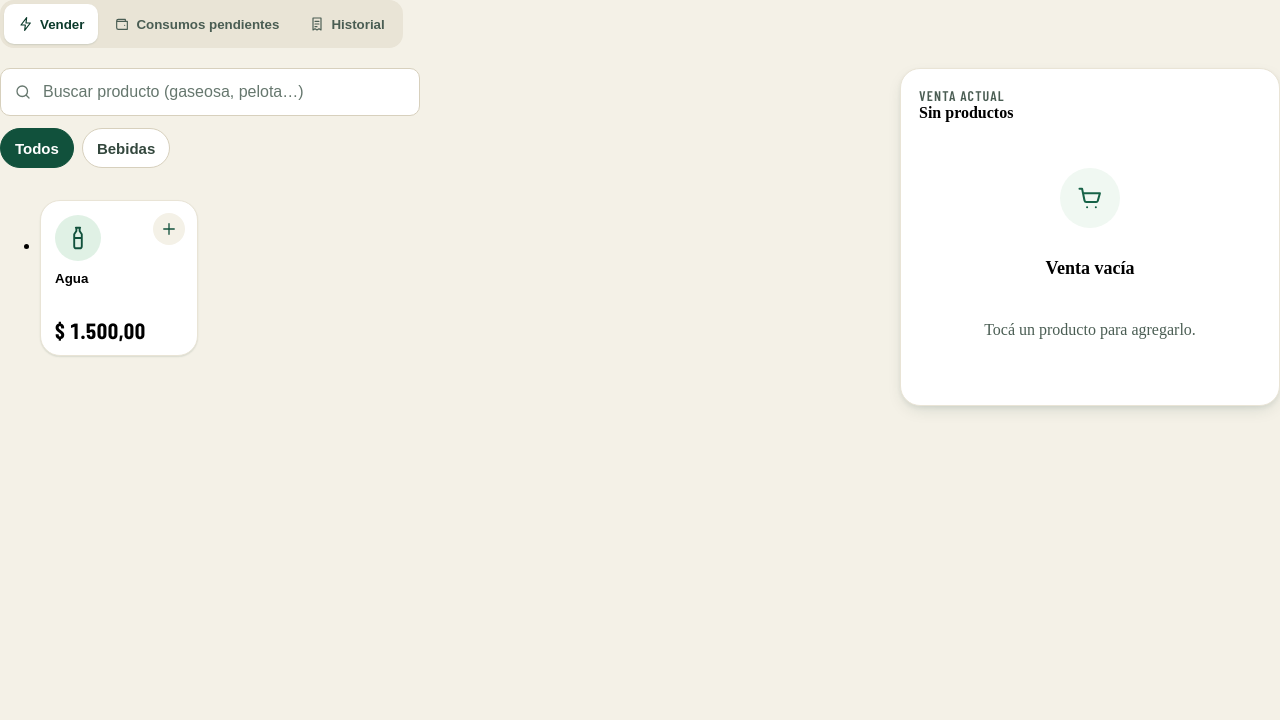
Test: CanteenPanel · venta idempotente (SEC-05) › venta normal: envía productos, medio de pago y una clave de operación; vacía el carrito al confirmar
Click the button "Agua $ 1.500,00": [119, 278] box [40, 200, 198, 356]
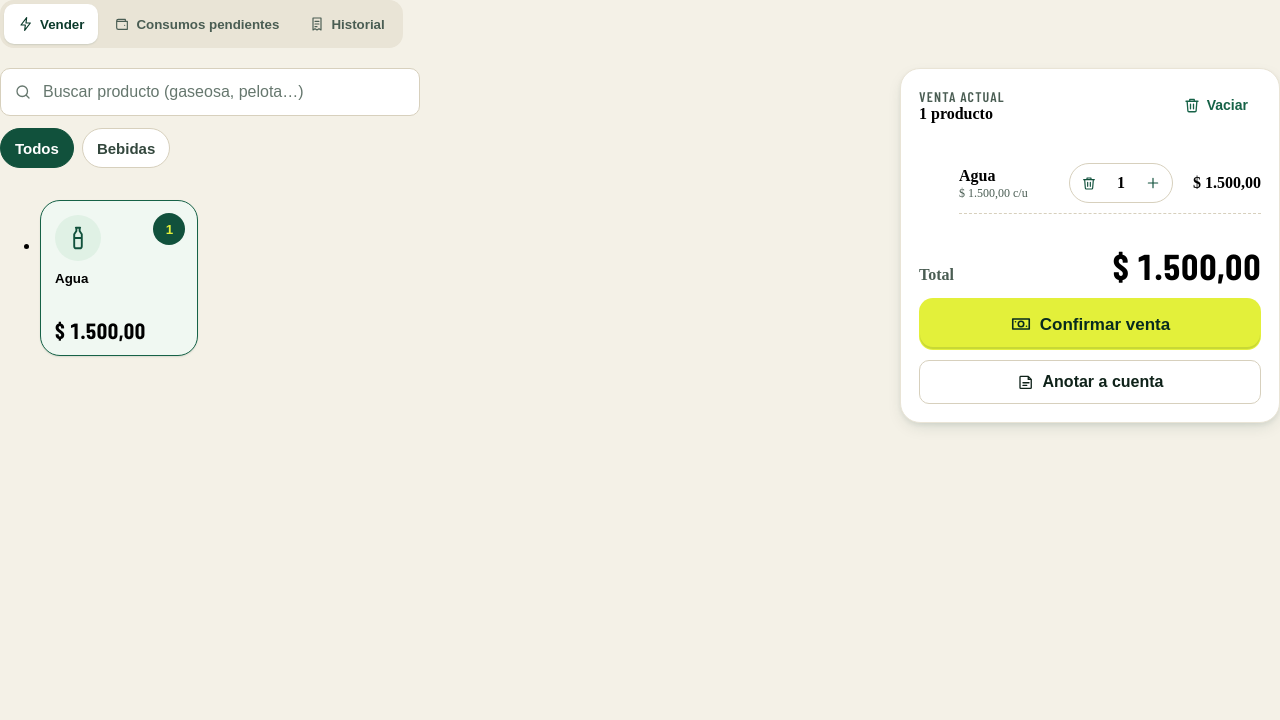
Click the button "Confirmar venta": [1090, 324] box [919, 298, 1261, 350]
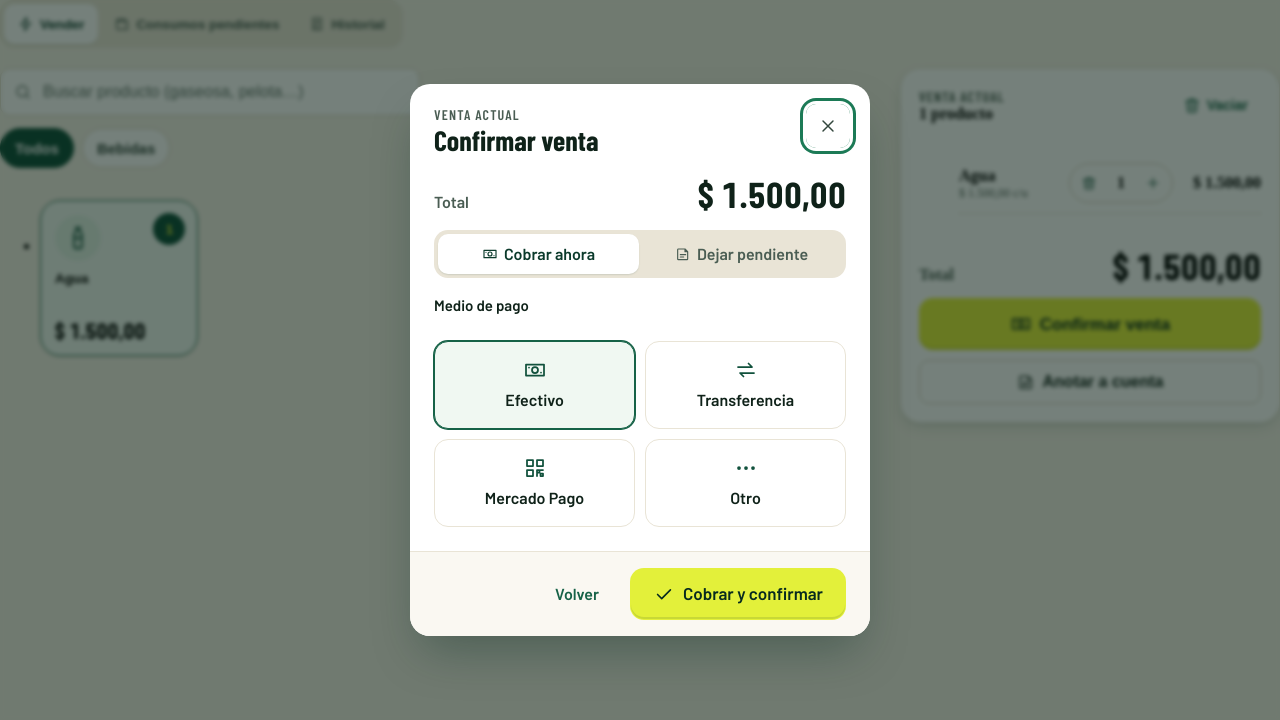
Click the button "Cobrar y confirmar": [738, 594] box [630, 568, 846, 620]
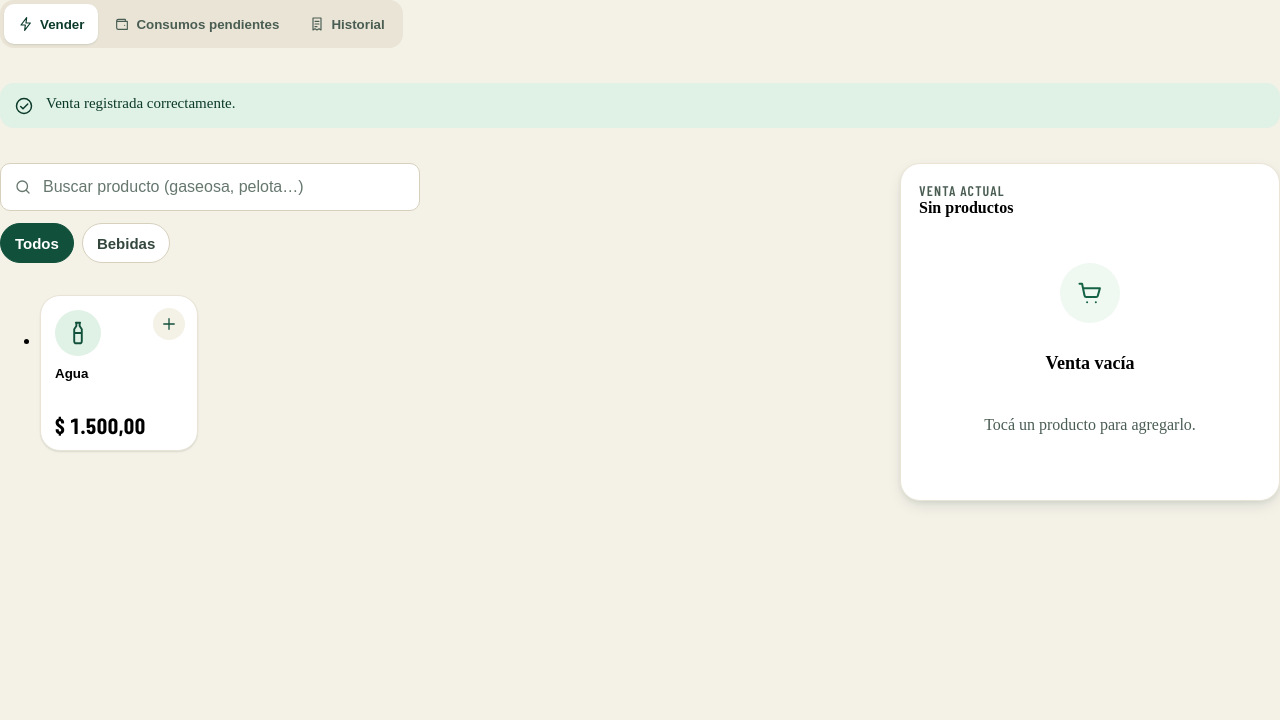
Check: the text "Venta registrada correctamente." is shown, box [46, 95, 236, 112]
Check: the text "Tocá un producto para agregarlo." is shown, box [984, 416, 1196, 434]
